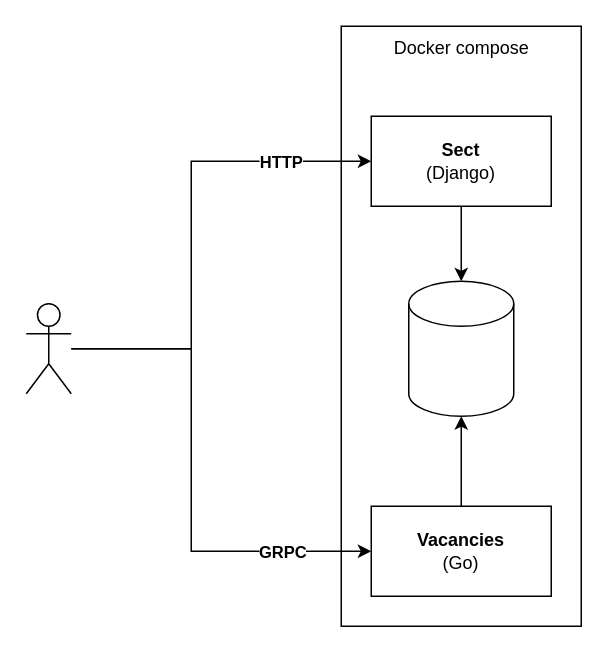
This 608x653 diagram has some shape labels left out. The shapes that lost their labels are listed below. From the top down, each one's centre as x and y in pixels, then its label:
point (48, 348): Client
point (460, 348): Postgres db
